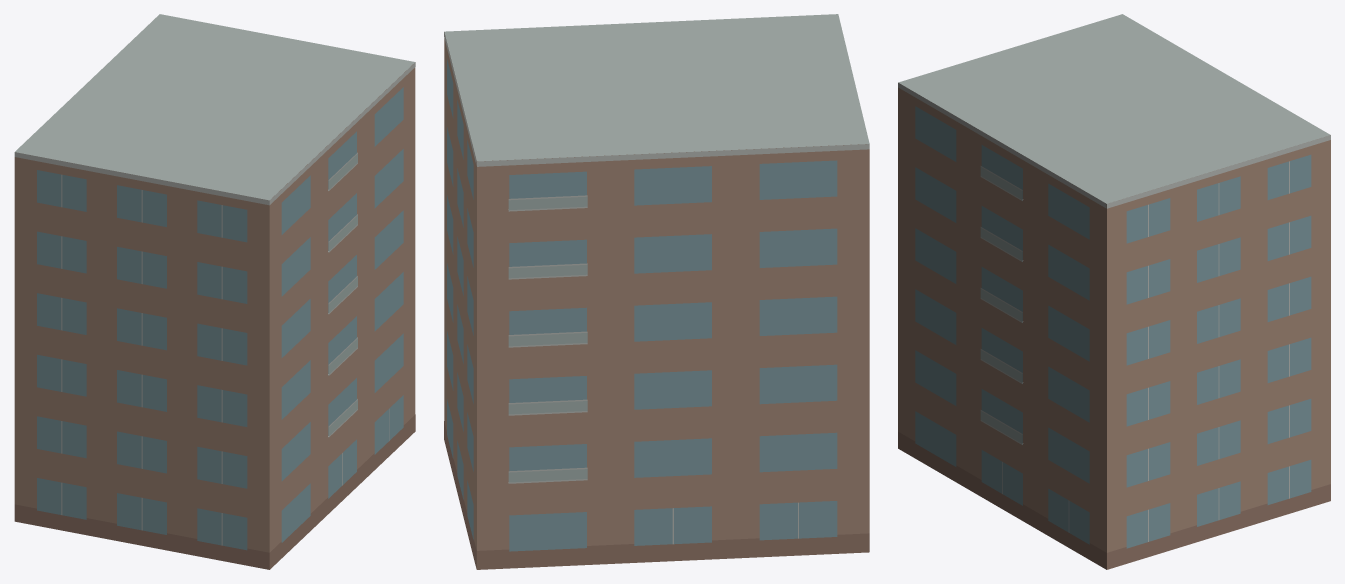
File: survey-upis-33004352.glb
3 renders of one model, left to right at view 1: azimuth 30°, elevation 25°; view 2: azimuth 150°, elevation 25°; view 3: azimuth 270°, elevation 25°, orthographic. The views are drawn at different scales.
Parts seen in each view (by area): view 1: survey-upis-33004352.tmp; view 2: survey-upis-33004352.tmp; view 3: survey-upis-33004352.tmp.
Part boxes in pixels (bbox=[...]): survey-upis-33004352.tmp: bbox=[14, 14, 415, 569]; survey-upis-33004352.tmp: bbox=[444, 14, 869, 569]; survey-upis-33004352.tmp: bbox=[898, 14, 1330, 569].
Bounding box in the file's own units: 20.37 × 18.3 × 19.62.
